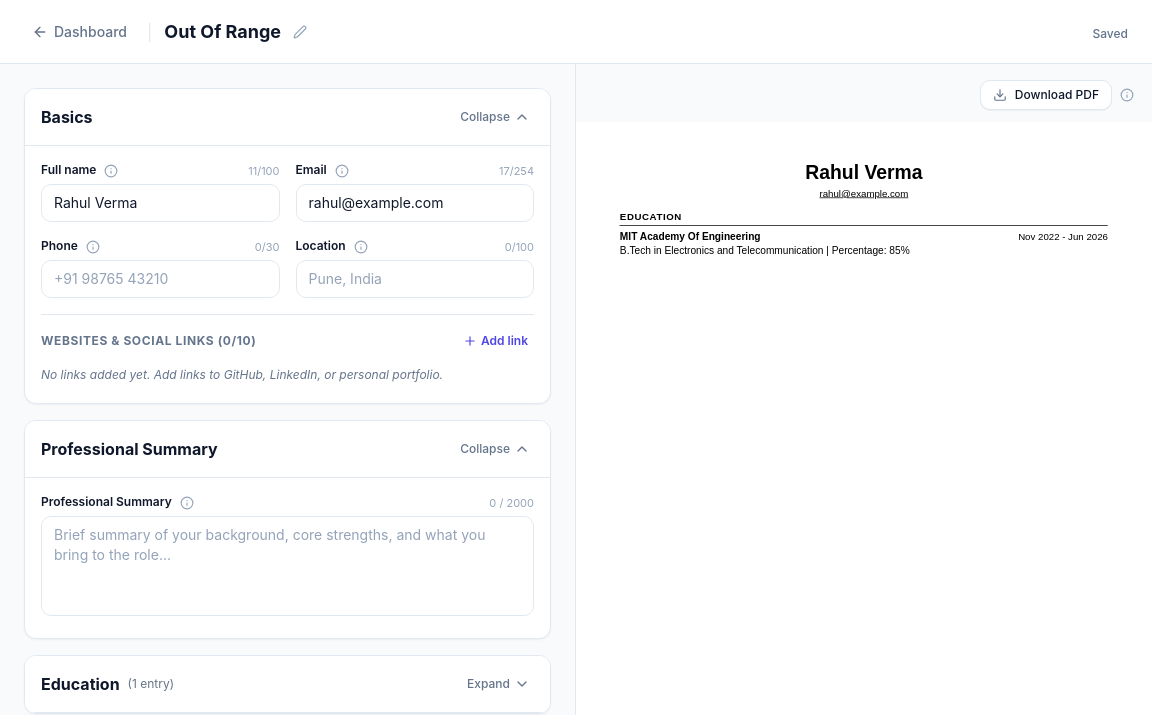
Scenario: Grade Type Switch & Hint (Part 2) › switches when value is out of range for new type (85 changed to CGPA): select changes, shows error, toSaveable sends null
This screenshot has width=1152, height=715.
Expected: the heading "Out Of Range" is shown, [164,18,281,46]
Click the button "Expand" at {"x": 499, "y": 684}, box [463,672,534,696]
(page scrolled)
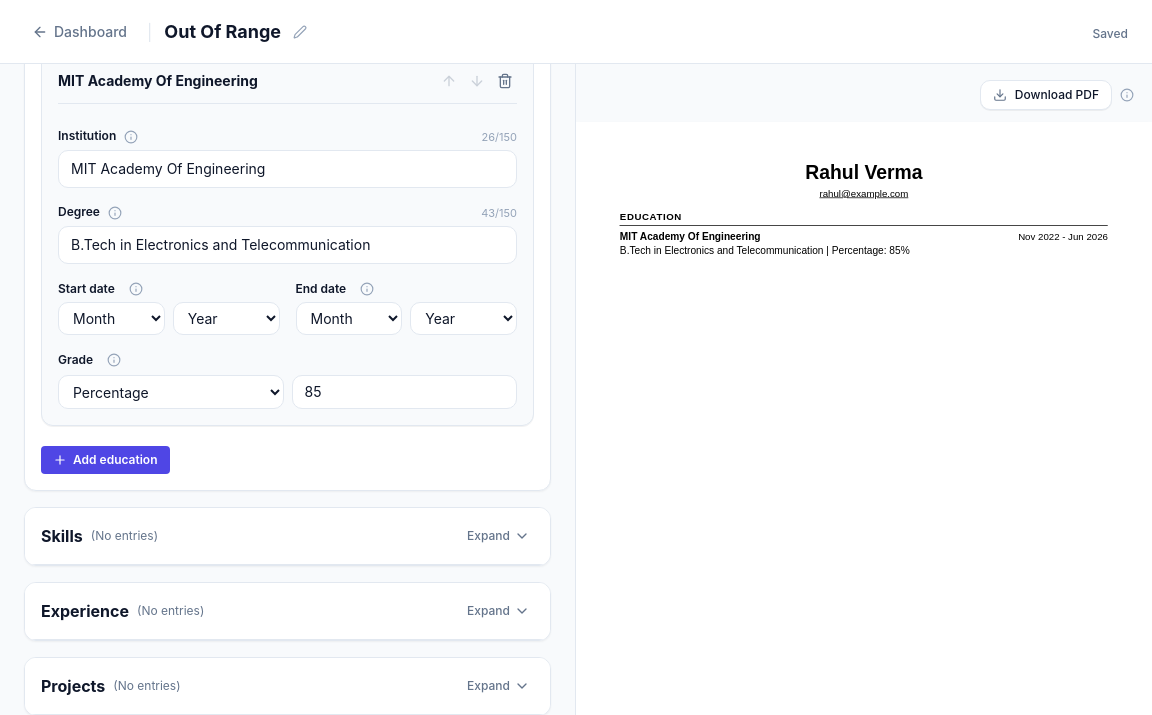
Select "CGPA" in the dropdown named "grade type" at {"x": 171, "y": 392}, box [58,375,284,409]
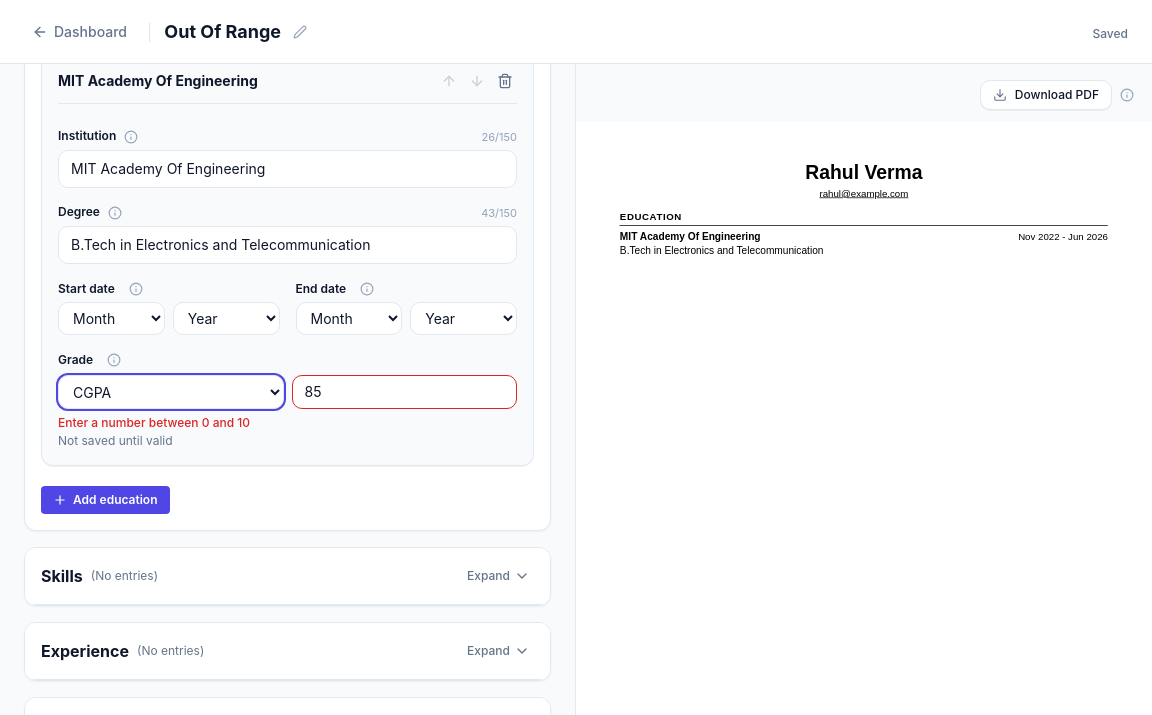
Expected: the text "Enter a number between 0 and 10" is shown, [58,415,250,430]
Expected: the text "Not saved until valid" is shown, [58,433,172,448]
